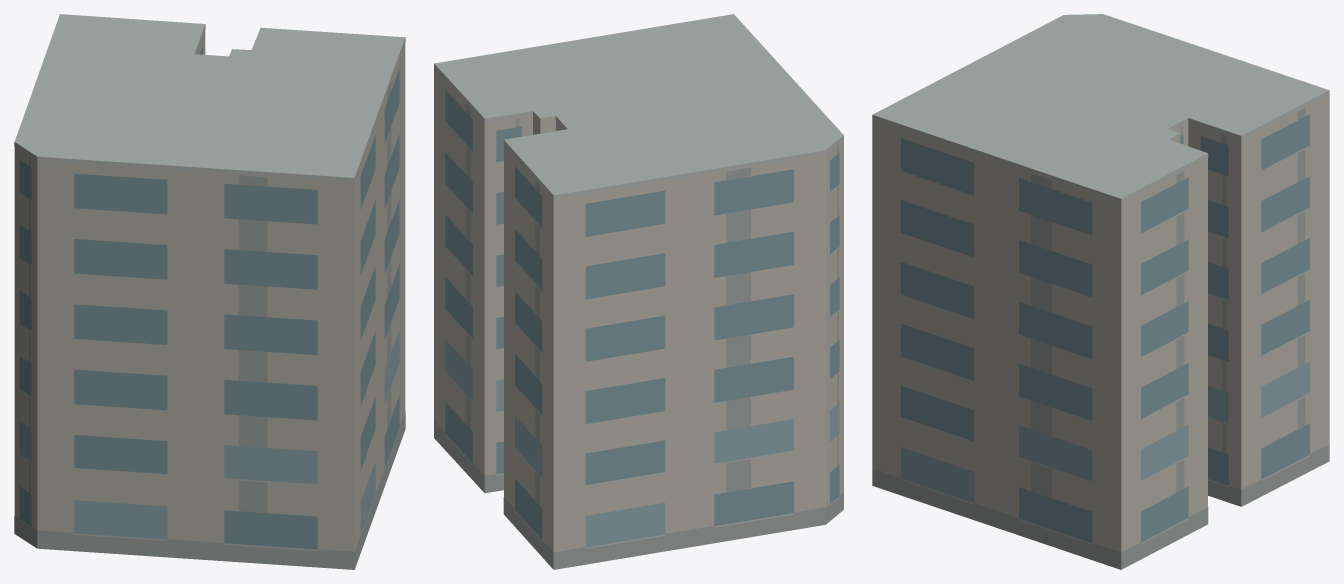
File: survey-upis-32798587.glb
3 renders of one model, left to right at view 1: azimuth 30°, elevation 25°; view 2: azimuth 150°, elevation 25°; view 3: azimuth 270°, elevation 25°, orthographic. The views are drawn at different scales.
Visible parts, largest first — view 1: survey-upis-32798587.tmp; view 2: survey-upis-32798587.tmp; view 3: survey-upis-32798587.tmp.
Boxes of the visible parts, x1,y1,x2,y2 form: survey-upis-32798587.tmp: (14, 14, 405, 569); survey-upis-32798587.tmp: (434, 14, 843, 569); survey-upis-32798587.tmp: (872, 14, 1329, 569).
Bounding box in the file's own units: 19.25 × 18 × 20.12.
